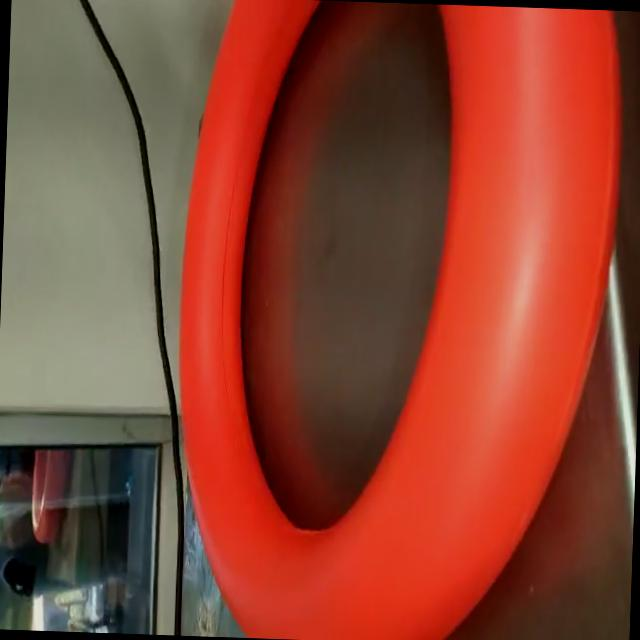note: (166, 0, 626, 640)
